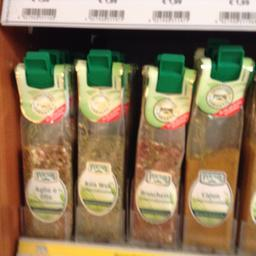spices: (183, 56, 250, 248), (128, 63, 194, 246), (72, 58, 128, 241), (15, 60, 72, 236)
